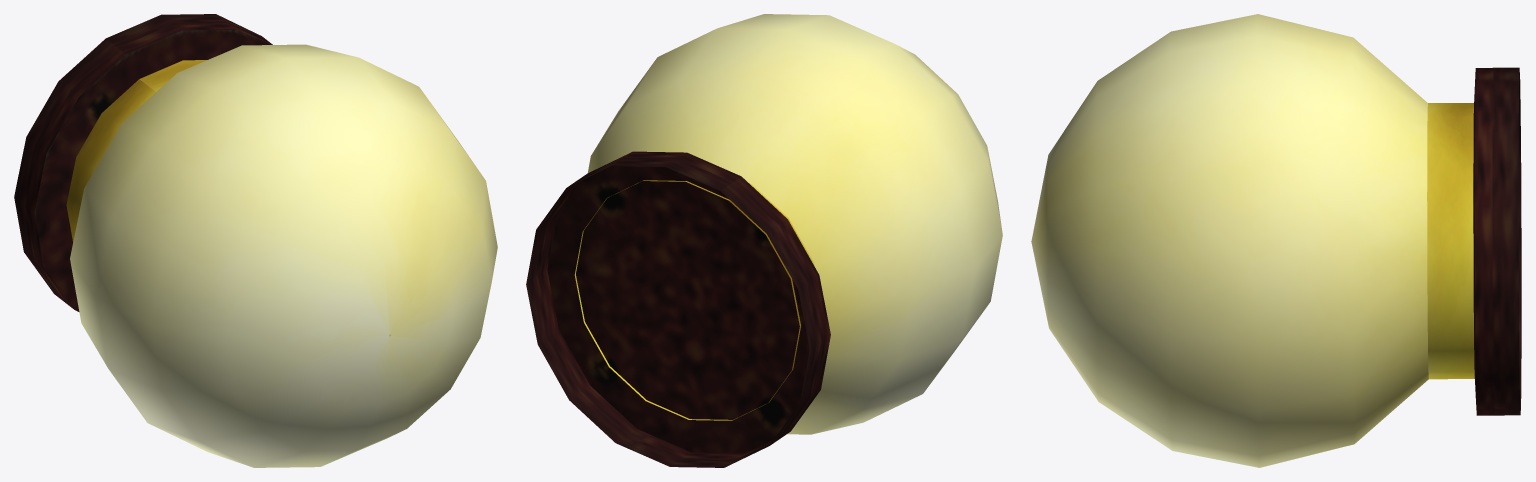
The model's file is Lamp_sphere.FBX.
3 views of the same model, side by side, from view 1: azimuth 30°, elevation 25°; view 2: azimuth 150°, elevation 25°; view 3: azimuth 270°, elevation 25° (orthographic). The views are drawn at different scales.
Visible parts, largest first — view 1: Lamp_sphere; view 2: Lamp_sphere; view 3: Lamp_sphere.
Part boxes in pixels (bbox=[...]): Lamp_sphere: bbox=[14, 14, 497, 467]; Lamp_sphere: bbox=[526, 14, 1002, 467]; Lamp_sphere: bbox=[1031, 14, 1521, 467].
Size of the model in its own units: 0.3081 by 0.3081 by 0.3321.
